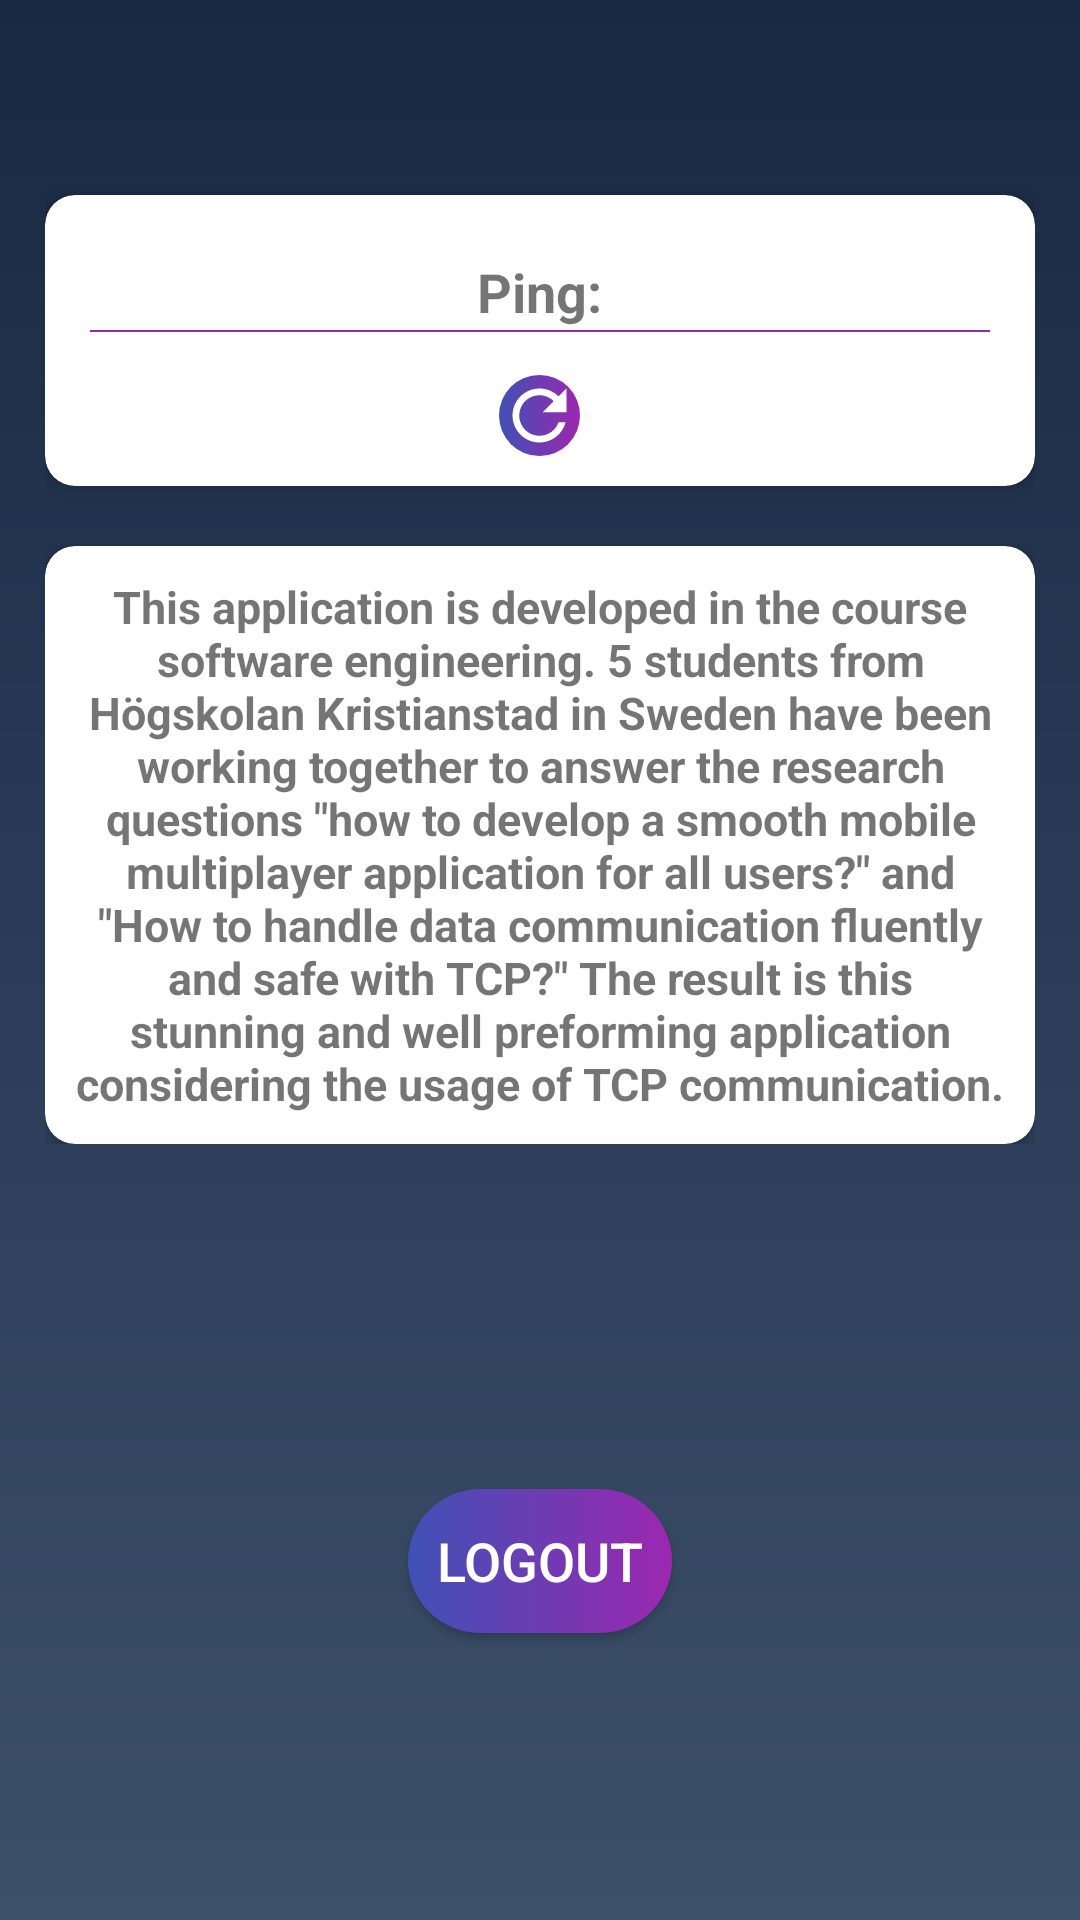

Screen size 1080 x 1920. Icon name, then its center in pixels as (x=x, y=y):
refresh: (x=539, y=415)
